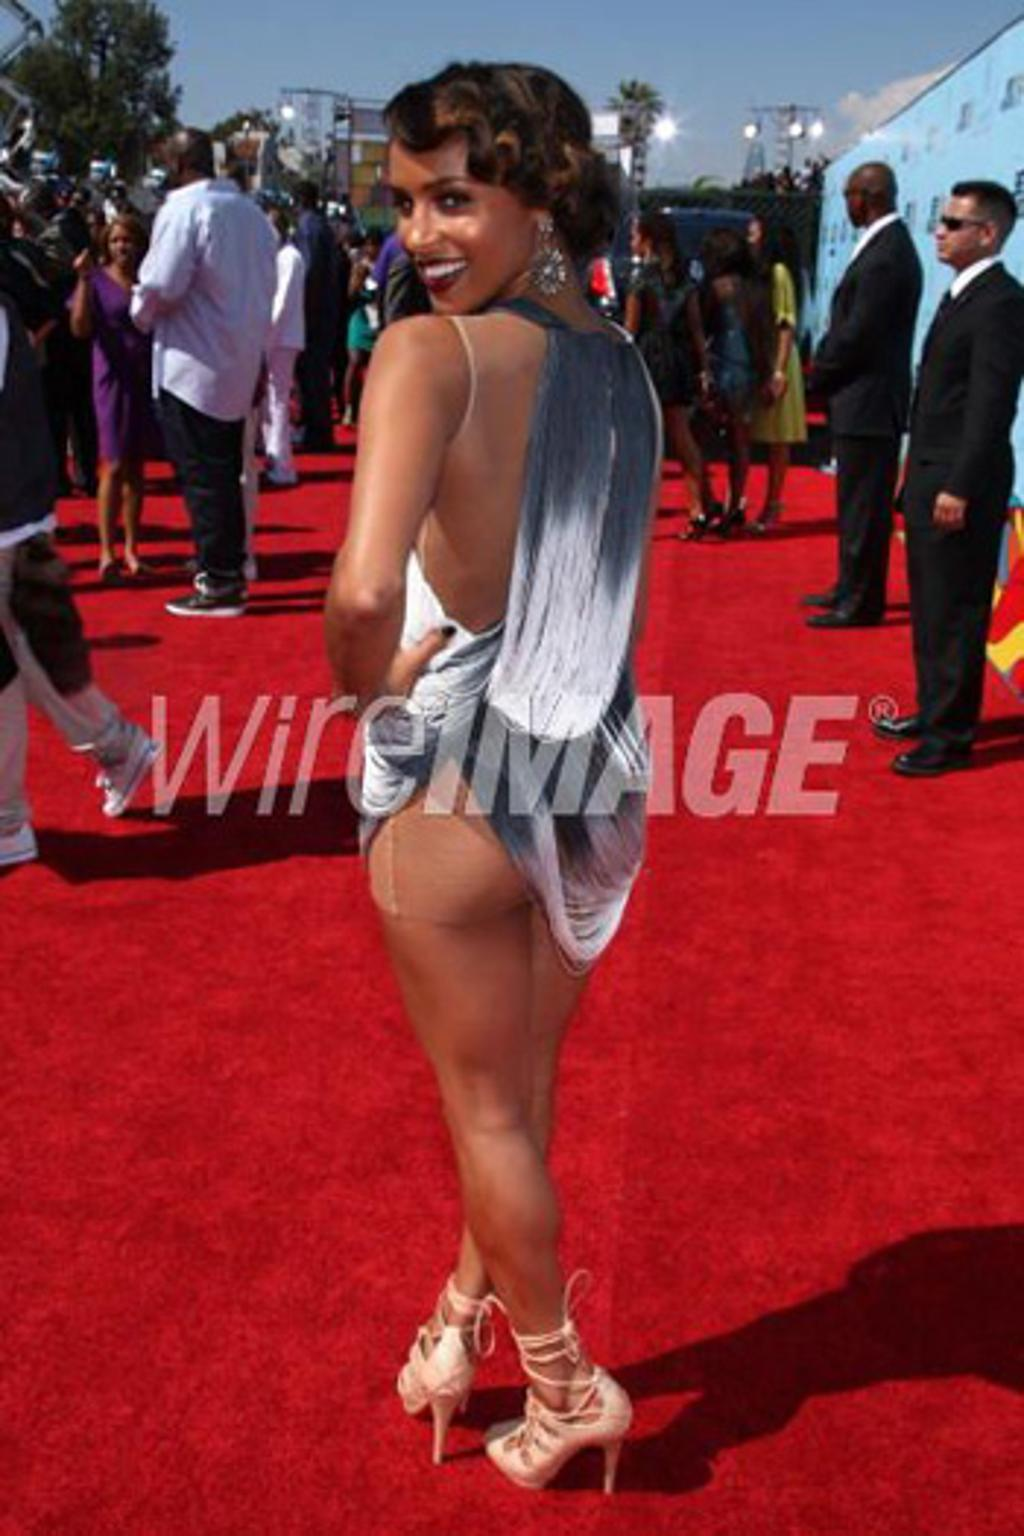face: (388, 148, 534, 313), (936, 199, 985, 259), (108, 230, 137, 263), (845, 186, 870, 223), (631, 226, 650, 256), (748, 225, 766, 249)
